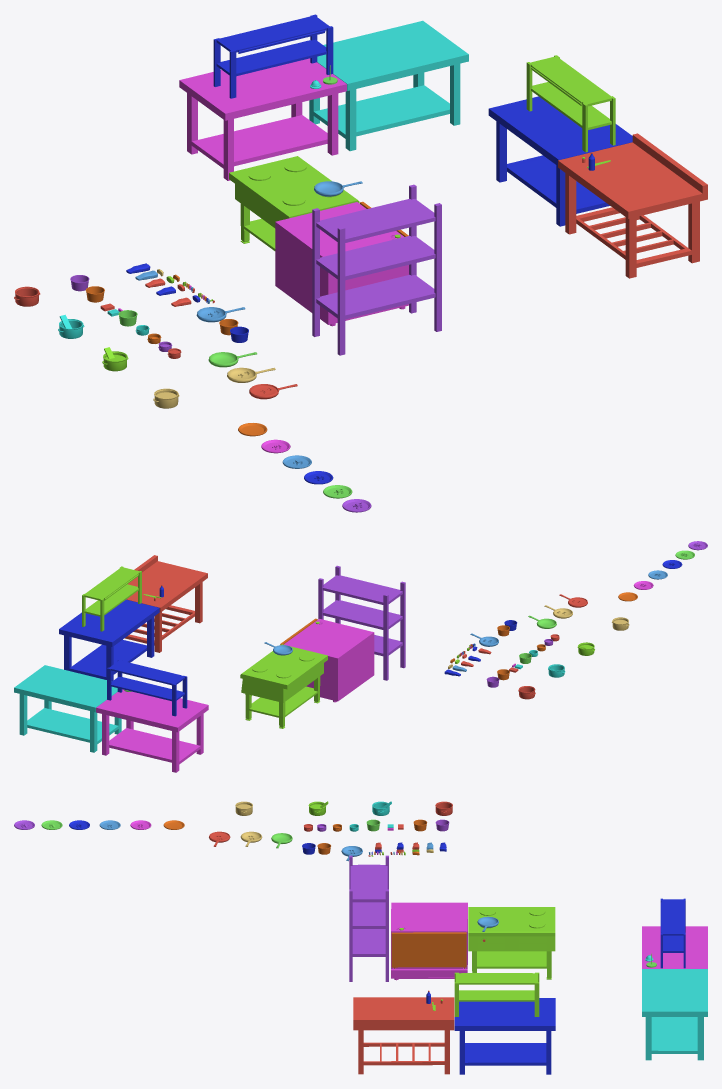
The model's file is kitchen_test_1.fbx.
3 renders of one model, top to bottom at view 1: azimuth 30°, elevation 25°; view 2: azimuth 150°, elevation 25°; view 3: azimuth 270°, elevation 25°, orthographic. The views are drawn at different scales.
Parts seen in each view (by area): view 1: shelve_1.001, wall_table_1.001, table_1.001, table_1.002, table_1.003, stove_1.001, kitchen_hob_1.001, shelve_midle_1, shelve_midle_1.001; view 2: table_1.001, table_1.002, table_1.003, kitchen_hob_1.001, stove_1.001, shelve_1.001, wall_table_1.001, shelve_midle_1, shelve_midle_1.001; view 3: table_1.002, table_1.003, kitchen_hob_1.001, wall_table_1.001, shelve_1.001, stove_1.001, door_stove_1.001, shelve_midle_1.001, table_1.001, shelve_midle_1.
Part boxes in pixels (x1,y1,x2,y2): shelve_1.001: [312, 184, 441, 355]; wall_table_1.001: [558, 133, 707, 278]; table_1.001: [179, 58, 346, 180]; table_1.002: [309, 20, 468, 151]; table_1.003: [488, 96, 632, 226]; stove_1.001: [275, 202, 408, 326]; kitchen_hob_1.001: [229, 156, 359, 250]; shelve_midle_1: [213, 14, 333, 98]; shelve_midle_1.001: [526, 55, 615, 152]; table_1.001: [96, 689, 208, 772]; table_1.002: [14, 665, 121, 752]; table_1.003: [59, 599, 159, 681]; kitchen_hob_1.001: [240, 644, 327, 728]; stove_1.001: [284, 619, 374, 702]; shelve_1.001: [318, 565, 405, 680]; wall_table_1.001: [125, 555, 207, 652]; shelve_midle_1: [107, 659, 187, 716]; shelve_midle_1.001: [82, 566, 141, 631]; table_1.002: [642, 969, 707, 1060]; table_1.003: [454, 998, 555, 1074]; kitchen_hob_1.001: [468, 907, 555, 979]; wall_table_1.001: [353, 997, 454, 1074]; shelve_1.001: [349, 855, 388, 981]; stove_1.001: [391, 902, 467, 980]; door_stove_1.001: [391, 932, 466, 968]; shelve_midle_1.001: [454, 972, 539, 1016]; table_1.001: [642, 926, 707, 968]; shelve_midle_1: [660, 898, 685, 968].
Bounding box in the file's own units: 1038 × 198 × 1376.
